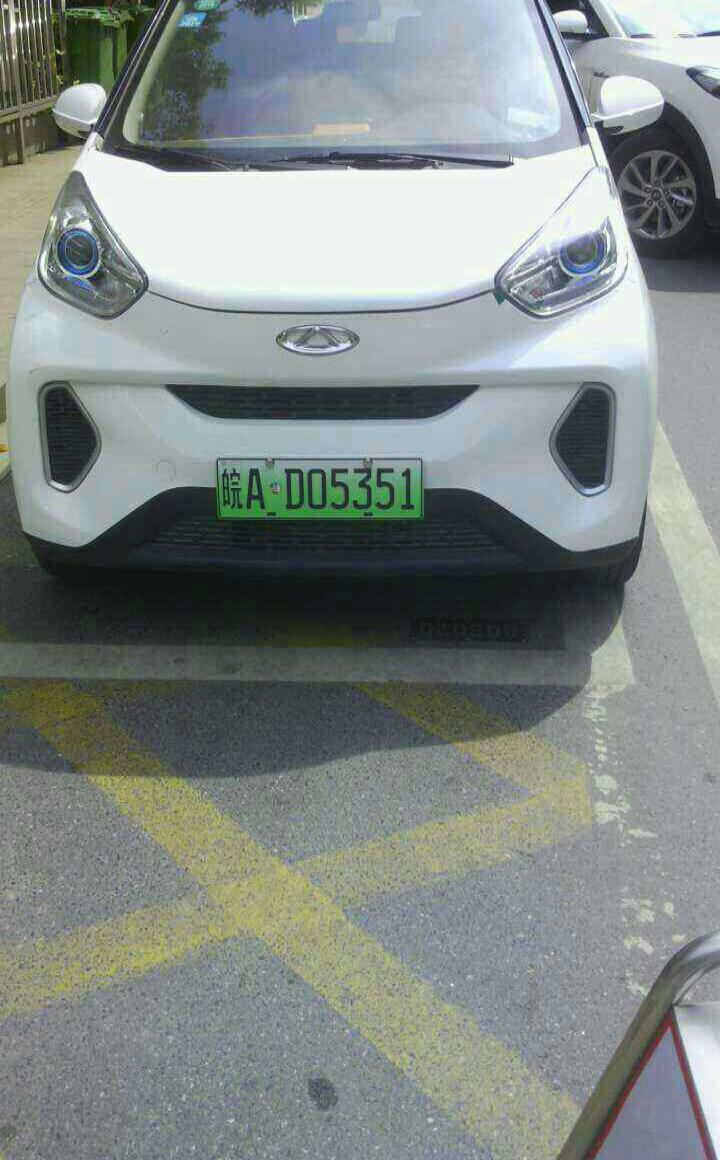car_green: (208, 452, 429, 529)
